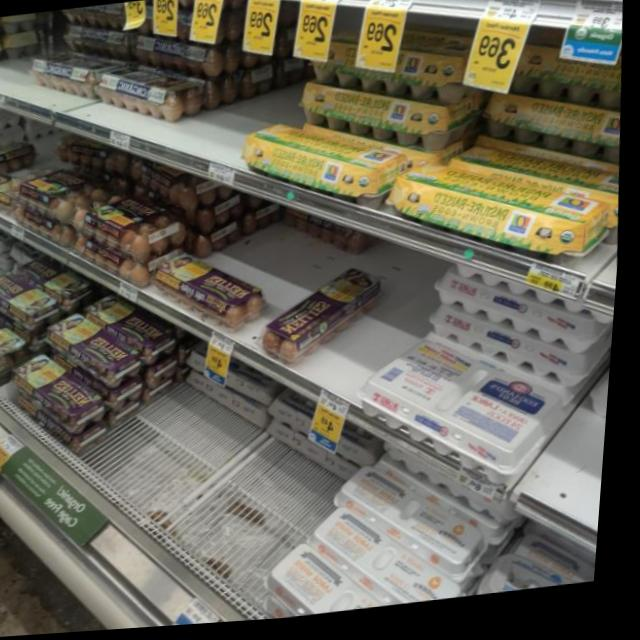Cucumber: (360, 329, 581, 495), (384, 145, 614, 282), (332, 454, 496, 595), (241, 113, 418, 225), (429, 260, 604, 371), (290, 20, 484, 118), (296, 67, 483, 167), (314, 501, 470, 620), (426, 300, 595, 404), (481, 85, 627, 185), (257, 271, 390, 370), (495, 40, 627, 132), (67, 175, 190, 270), (96, 50, 219, 131), (161, 253, 271, 342), (13, 347, 112, 441), (86, 288, 185, 373), (45, 308, 146, 391), (25, 48, 124, 105), (19, 162, 96, 224), (17, 255, 95, 313), (0, 261, 64, 329), (0, 305, 33, 370)
